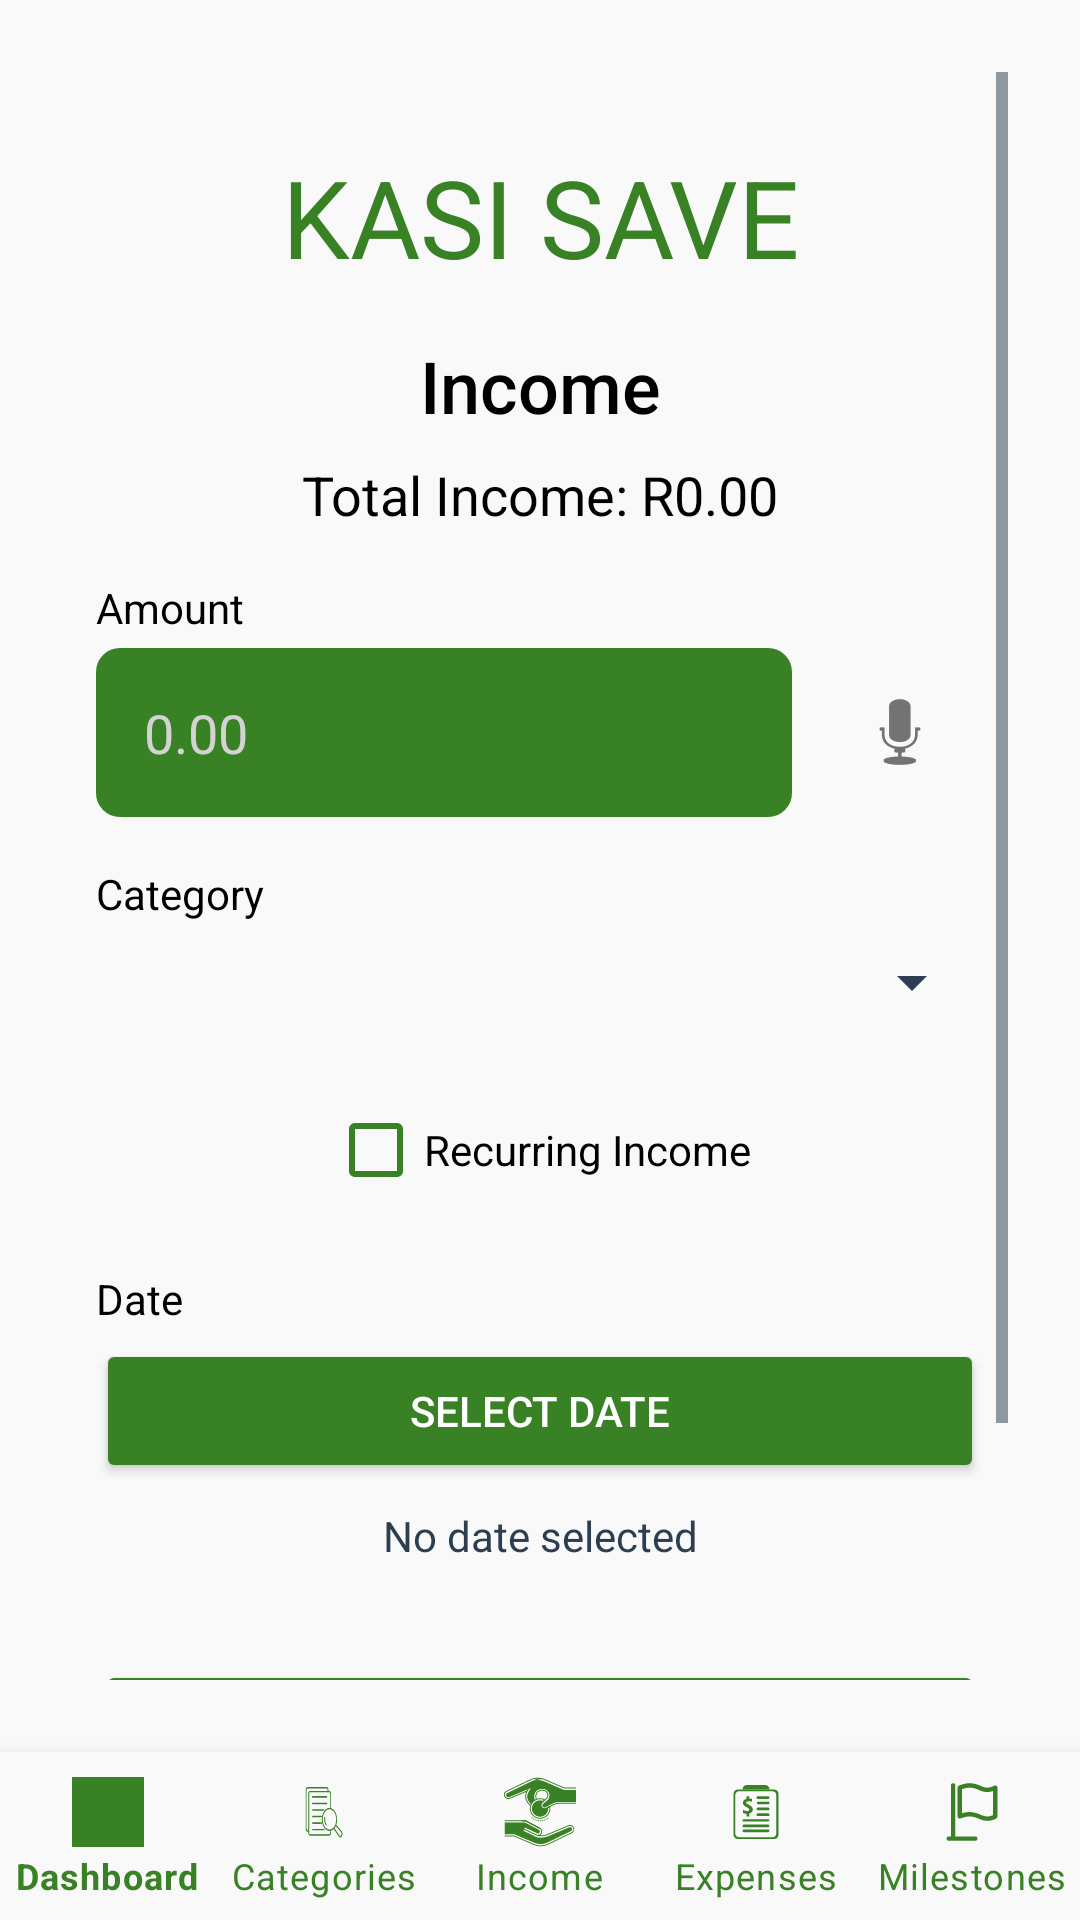

Named icons in this screenshot (1080 × 1920) and their bounding boxes, [x1,y1,x2,y2]:
Voice input: [879,699,921,765]
